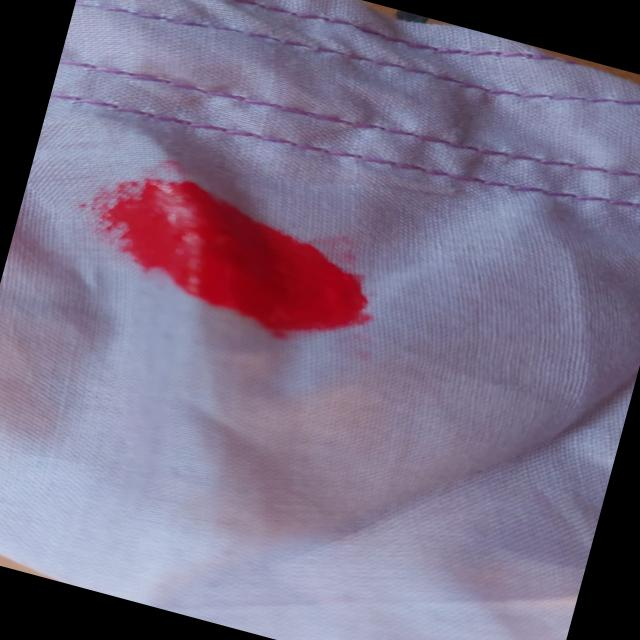Stain: (57, 137, 405, 367)
seam: (48, 13, 640, 269), (74, 0, 640, 171)
